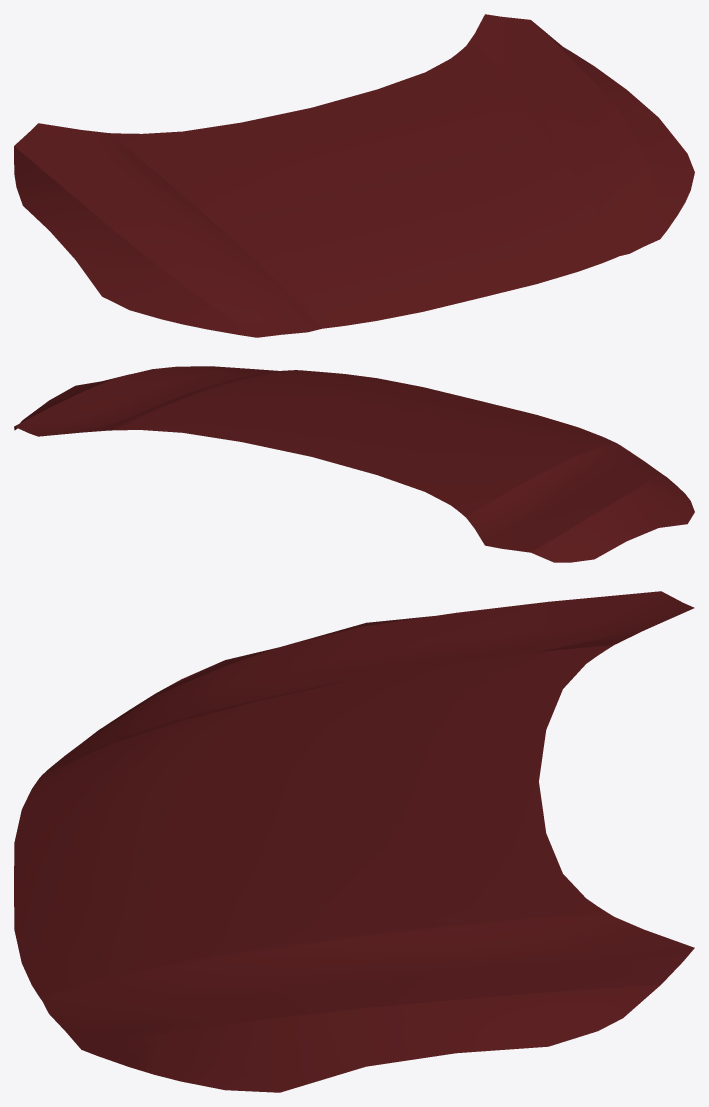
File: Honda_Civic_Hood_01.glb
The picture shows the model from 3 angles, top to bottom: view 1: azimuth 30°, elevation 25°; view 2: azimuth 150°, elevation 25°; view 3: azimuth 270°, elevation 25°; orthographic projection. The views are drawn at different scales.
Visible parts, largest first — view 1: Mesh_Honda_Civic_Hood_01; view 2: Mesh_Honda_Civic_Hood_01; view 3: Mesh_Honda_Civic_Hood_01.
Part boxes in pixels (<box>): Mesh_Honda_Civic_Hood_01: <box>14,14,694,337</box>; Mesh_Honda_Civic_Hood_01: <box>14,366,694,562</box>; Mesh_Honda_Civic_Hood_01: <box>14,591,694,1092</box>.
Bounding box in the file's own units: 85.36 × 10.59 × 55.13.
